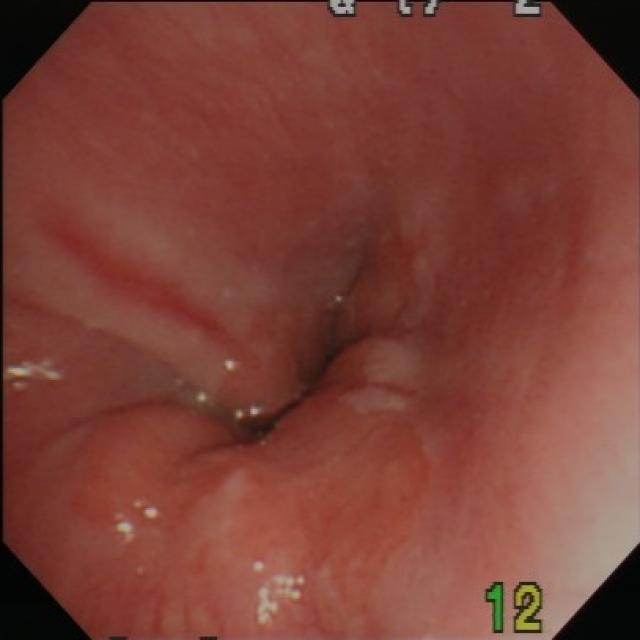A: (426, 174, 600, 348)
D: (56, 218, 226, 345)
I: (125, 251, 440, 516)
J: (347, 335, 418, 413)
S: (485, 581, 547, 636), (325, 3, 545, 18)
U: (251, 559, 306, 627), (3, 357, 67, 396), (114, 501, 160, 545), (234, 405, 262, 420), (221, 357, 243, 372), (193, 390, 212, 407), (334, 292, 347, 306)
